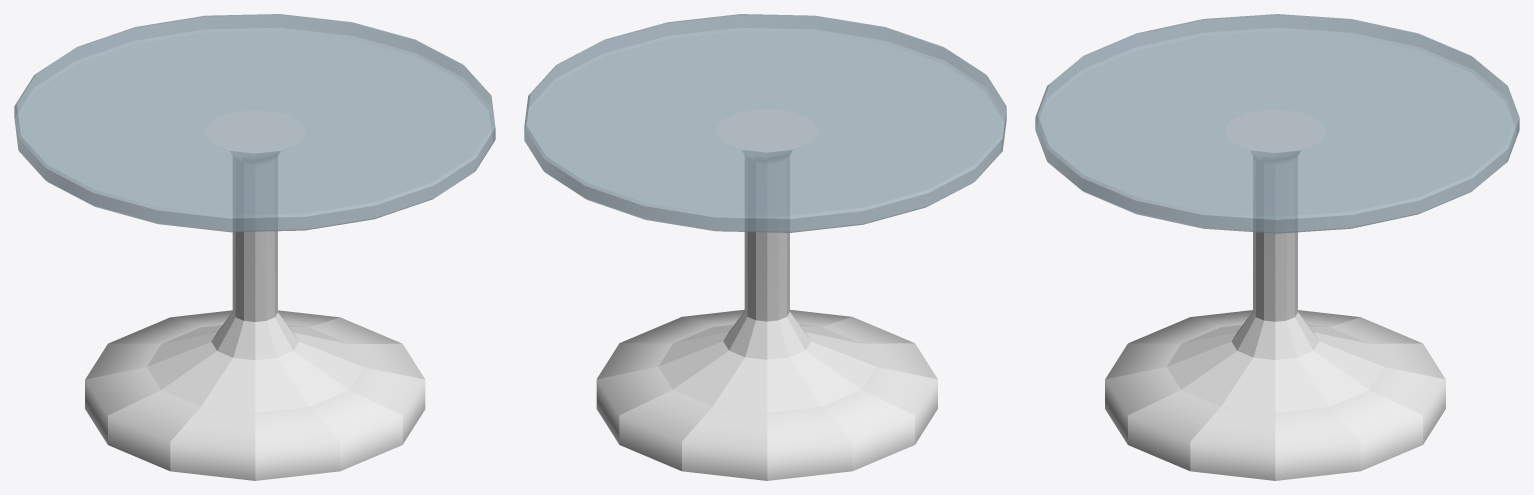
The model's file is p1Mesa2.fbx.
3 renders of one model, left to right at view 1: azimuth 30°, elevation 25°; view 2: azimuth 150°, elevation 25°; view 3: azimuth 270°, elevation 25°, orthographic.
Visible parts, largest first — view 1: pCylinder11, pCylinder10; view 2: pCylinder11, pCylinder10; view 3: pCylinder11, pCylinder10.
Part boxes in pixels (x1=…): pCylinder11: x1=14, y1=14, x2=495, y2=232; pCylinder10: x1=85, y1=110, x2=425, y2=480; pCylinder11: x1=524, y1=14, x2=1006, y2=232; pCylinder10: x1=596, y1=109, x2=937, y2=480; pCylinder11: x1=1035, y1=14, x2=1519, y2=233; pCylinder10: x1=1105, y1=109, x2=1445, y2=480.
Size of the model in its own units: 3.98 by 2.66 by 3.98.
